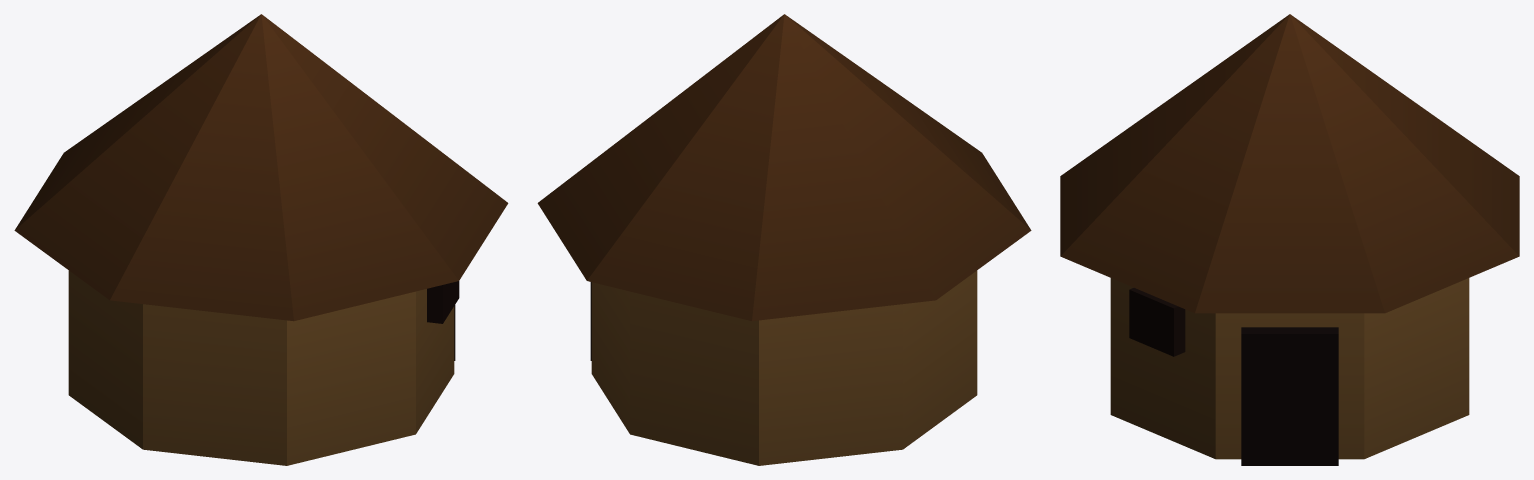
File: hut_hides.glb
3 renders of one model, left to right at view 1: azimuth 30°, elevation 25°; view 2: azimuth 150°, elevation 25°; view 3: azimuth 270°, elevation 25°, orthographic.
Parts seen in each view (by area): view 1: hut_hides2; view 2: hut_hides2; view 3: hut_hides2.
Part boxes in pixels (x1,y1,x2,y2): hut_hides2: (14,14,508,465); hut_hides2: (537,14,1031,465); hut_hides2: (1060,14,1519,465).
Bounding box in the file's own units: 0.9461 × 0.84 × 0.9461.
